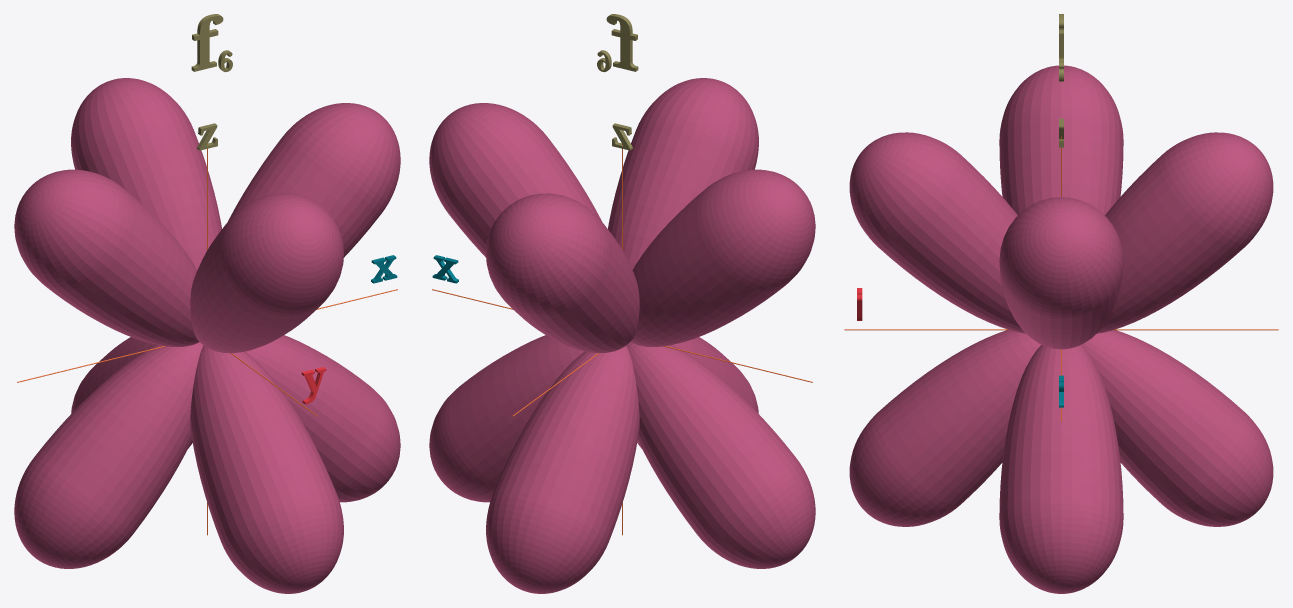
3 views of the same model, side by side, from view 1: azimuth 30°, elevation 25°; view 2: azimuth 150°, elevation 25°; view 3: azimuth 270°, elevation 25° (orthographic).
Visible parts, largest first — view 1: Mesh_Mesh_head_geo001_lambert2SG001; view 2: Mesh_Mesh_head_geo001_lambert2SG001; view 3: Mesh_Mesh_head_geo001_lambert2SG001.
Boxes of the visible parts, <box> form: Mesh_Mesh_head_geo001_lambert2SG001: <box>14,14,400,593</box>; Mesh_Mesh_head_geo001_lambert2SG001: <box>429,14,815,593</box>; Mesh_Mesh_head_geo001_lambert2SG001: <box>844,14,1278,593</box>.
Size of the model in its own units: 84 by 109 by 84.
